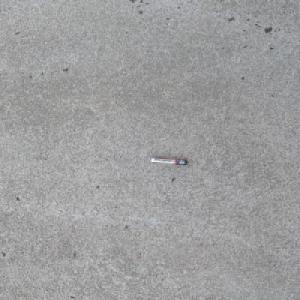Battery: (149, 157, 189, 165)
